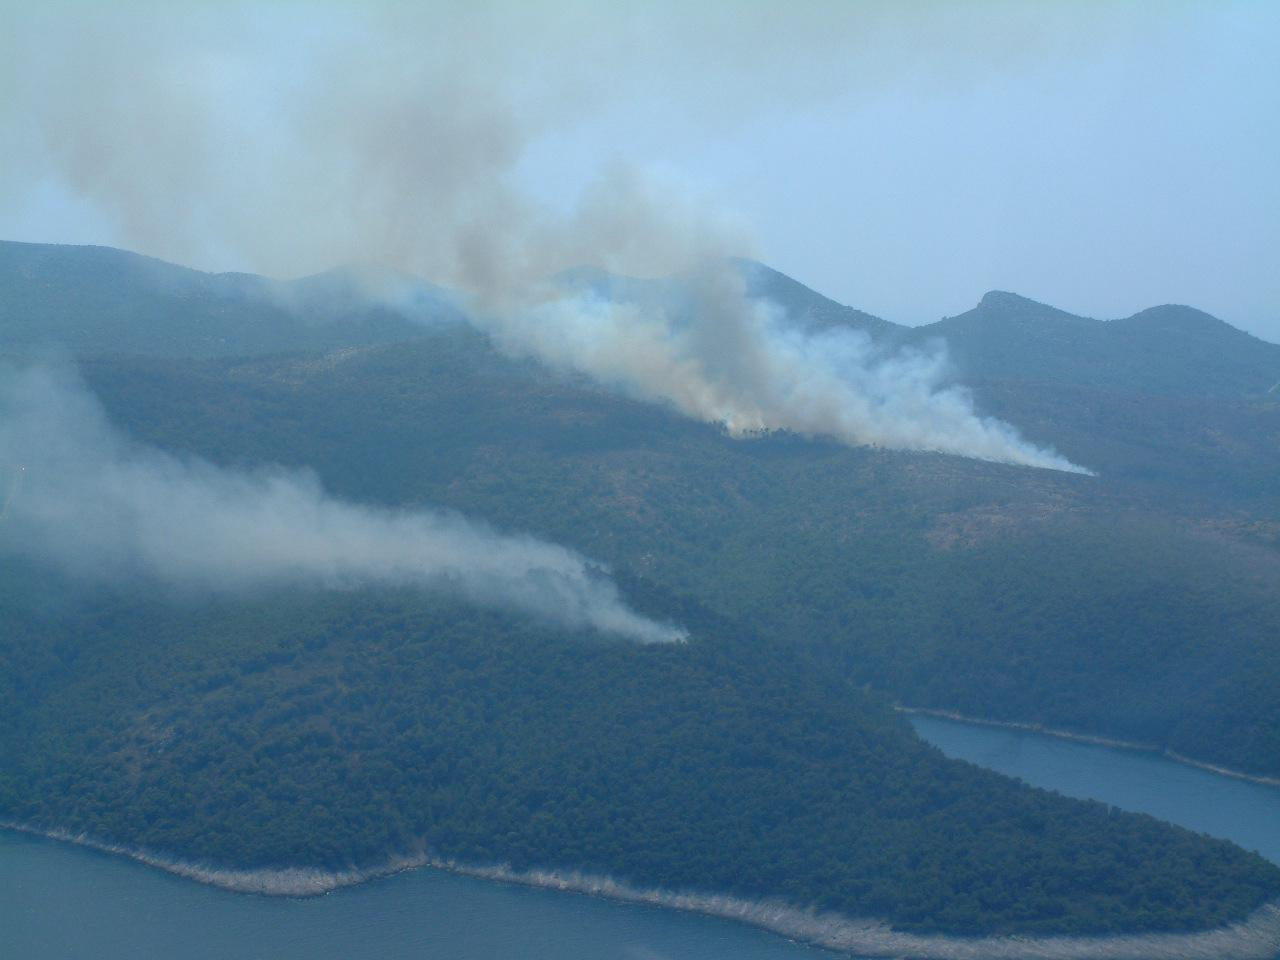Smoke: (246, 0, 1094, 474), (0, 347, 687, 657)
